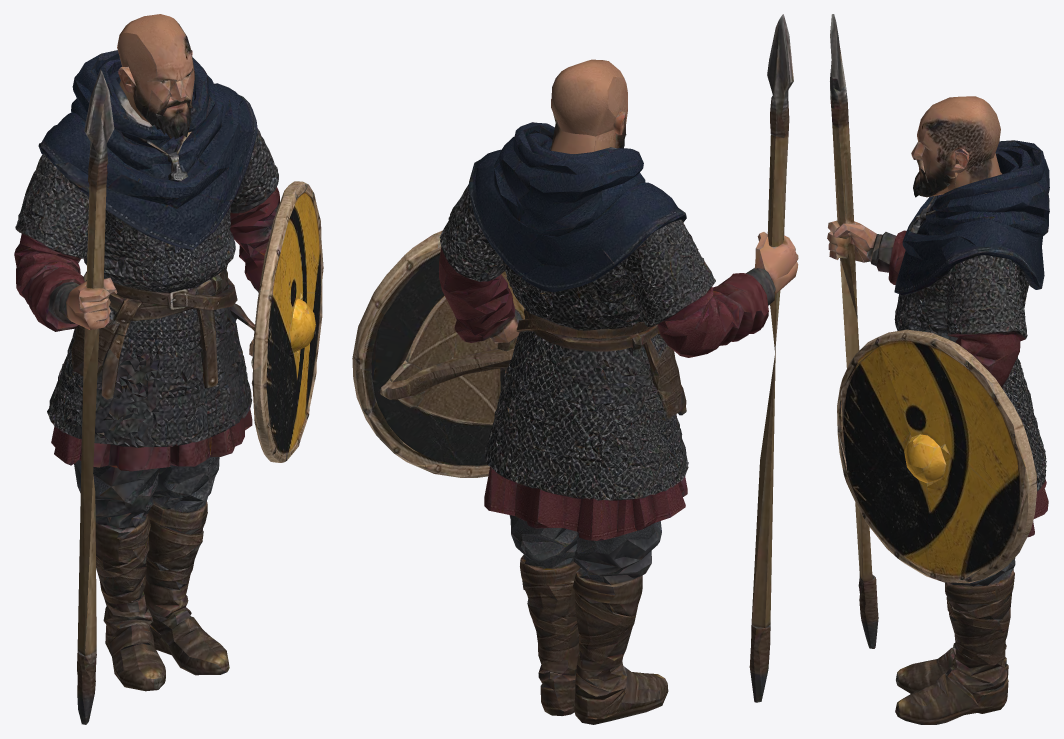
The model's file is hullsborg-jarl.glb.
3 renders of one model, left to right at view 1: azimuth 30°, elevation 25°; view 2: azimuth 150°, elevation 25°; view 3: azimuth 270°, elevation 25°, orthographic. The views are drawn at different scales.
Parts seen in each view (by area): view 1: Mesh_0; view 2: Mesh_0; view 3: Mesh_0.
Part boxes in pixels (bbox=[...]): Mesh_0: bbox=[14, 14, 323, 724]; Mesh_0: bbox=[352, 14, 798, 724]; Mesh_0: bbox=[827, 14, 1049, 724].
Size of the model in its own units: 1.04 by 1.9 by 0.6071.
Materials: 1 (1 with a texture image).
